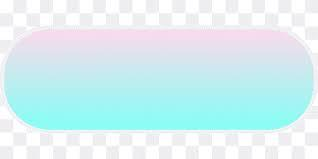cyan_zone: (3, 32, 314, 133)
